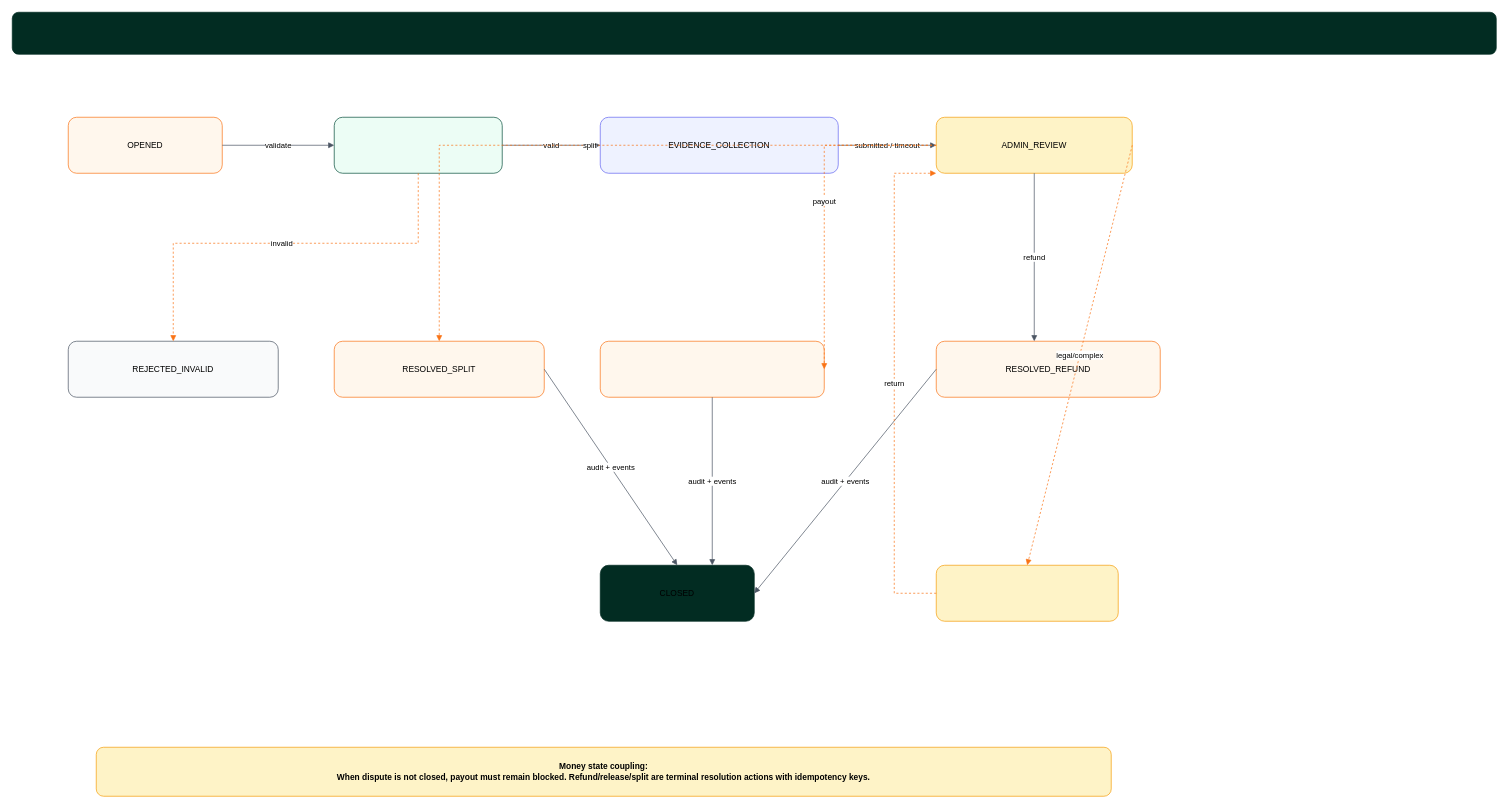
Some shapes in this 1509 by 809 pixel diagram are drawn without their labels. The shapes that lost their labels are listed below. From the top down, each one's box as (x1, y1, x2, y2) in pixels, then its label:
(12, 12, 1496, 54): Viaverse Dispute / Refund / Payout — State Diagram
(334, 117, 502, 173): VALIDATING
(600, 341, 824, 397): RESOLVED_PAYOUT
(936, 565, 1118, 621): ESCALATED
